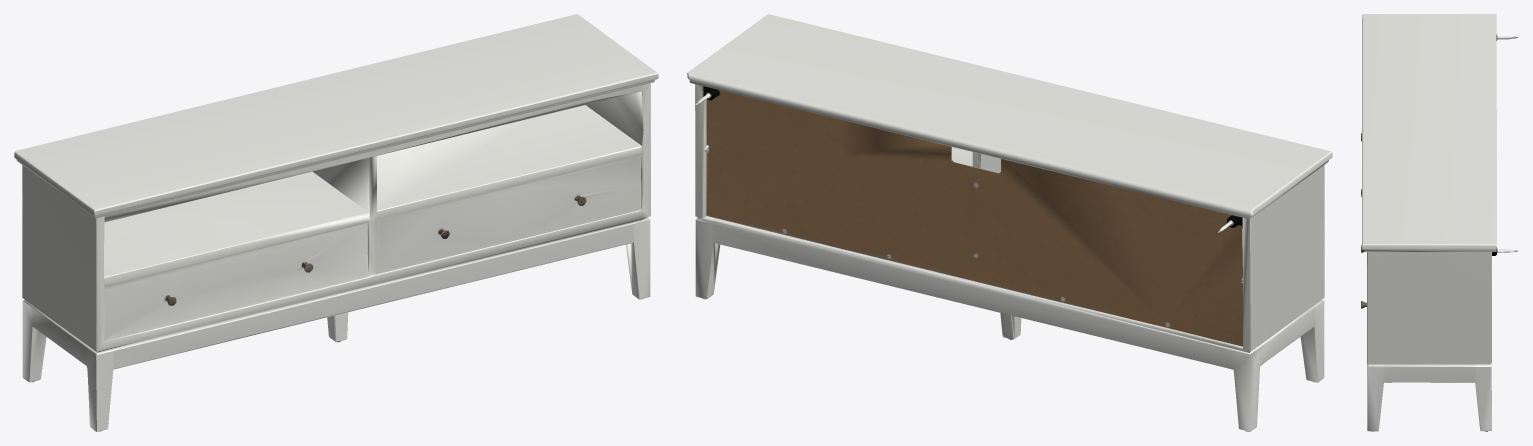
The picture shows the model from 3 angles, left to right: view 1: azimuth 30°, elevation 25°; view 2: azimuth 150°, elevation 25°; view 3: azimuth 270°, elevation 25°; orthographic projection. The views are drawn at different scales.
Parts seen in each view (by area): view 1: ProcessedMeshNode; view 2: ProcessedMeshNode; view 3: ProcessedMeshNode.
Boxes of the visible parts, left/top/right/bottom form: ProcessedMeshNode: left=14, top=14, right=658, bottom=431; ProcessedMeshNode: left=687, top=14, right=1332, bottom=431; ProcessedMeshNode: left=1361, top=14, right=1518, bottom=431.
Bounding box in the file's own units: 1.62 × 0.627 × 0.4694.
1 material, 1 textured.
